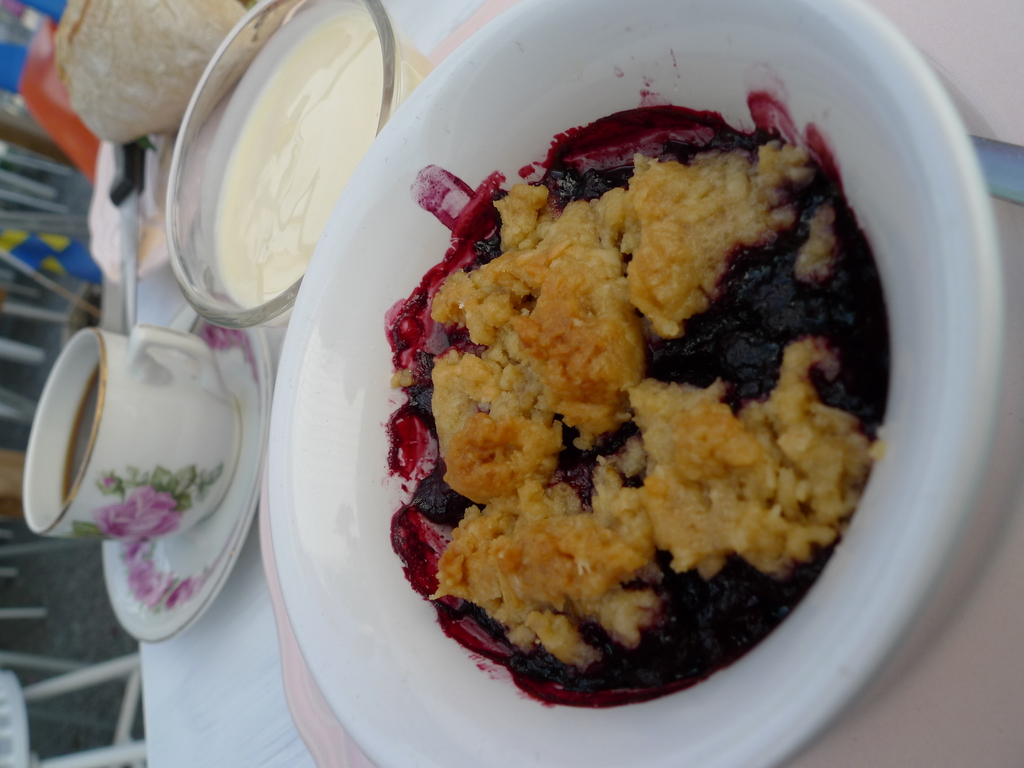plate: (100, 304, 271, 645)
